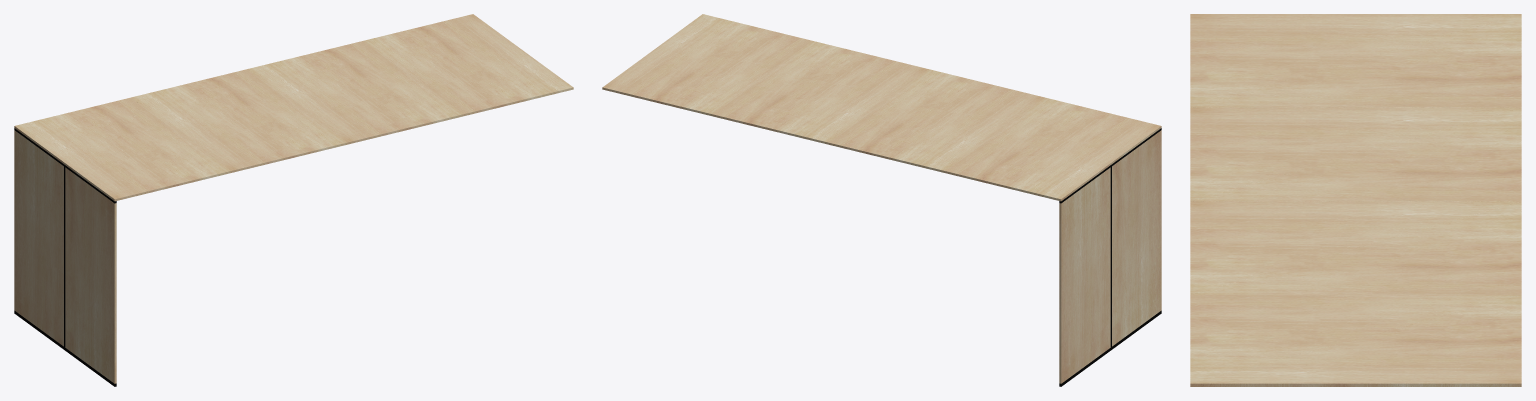
The model's file is rear-top-plywood.glb.
3 views of the same model, side by side, from view 1: azimuth 30°, elevation 25°; view 2: azimuth 150°, elevation 25°; view 3: azimuth 270°, elevation 25° (orthographic). The views are drawn at different scales.
Visible parts, largest first — view 1: Obj_20FT_Blank_Plywood_reartop_5, 20FT_Blank_Plywood_reartop, Obj_20FT_Blank_Plywood_reartop_4, Obj_20FT_Blank_Plywood_reartop_1, Obj_20FT_Blank_Plywood_reartop_3, Obj_20FT_Blank_Plywood_reartop, Obj_20FT_Blank_Plywood_reartop_2; view 2: Obj_20FT_Blank_Plywood_reartop_5, 20FT_Blank_Plywood_reartop, Obj_20FT_Blank_Plywood_reartop_4, Obj_20FT_Blank_Plywood_reartop_1, Obj_20FT_Blank_Plywood_reartop, Obj_20FT_Blank_Plywood_reartop_3, Obj_20FT_Blank_Plywood_reartop_2; view 3: Obj_20FT_Blank_Plywood_reartop_4, 20FT_Blank_Plywood_reartop, Obj_20FT_Blank_Plywood_reartop_5, Obj_20FT_Blank_Plywood_reartop_1.
Boxes of the visible parts, left/top/right/bottom form: Obj_20FT_Blank_Plywood_reartop_5: left=14, top=97, right=230, bottom=201; 20FT_Blank_Plywood_reartop: left=247, top=41, right=463, bottom=144; Obj_20FT_Blank_Plywood_reartop_4: left=131, top=69, right=347, bottom=172; Obj_20FT_Blank_Plywood_reartop_1: left=363, top=14, right=573, bottom=115; Obj_20FT_Blank_Plywood_reartop_3: left=65, top=167, right=116, bottom=383; Obj_20FT_Blank_Plywood_reartop: left=14, top=130, right=63, bottom=346; Obj_20FT_Blank_Plywood_reartop_2: left=14, top=128, right=116, bottom=386; Obj_20FT_Blank_Plywood_reartop_5: left=945, top=97, right=1161, bottom=201; 20FT_Blank_Plywood_reartop: left=712, top=41, right=928, bottom=144; Obj_20FT_Blank_Plywood_reartop_4: left=828, top=69, right=1044, bottom=172; Obj_20FT_Blank_Plywood_reartop_1: left=602, top=14, right=812, bottom=115; Obj_20FT_Blank_Plywood_reartop: left=1059, top=167, right=1110, bottom=383; Obj_20FT_Blank_Plywood_reartop_3: left=1112, top=130, right=1161, bottom=346; Obj_20FT_Blank_Plywood_reartop_2: left=1059, top=128, right=1161, bottom=386; Obj_20FT_Blank_Plywood_reartop_4: left=1190, top=107, right=1521, bottom=201; 20FT_Blank_Plywood_reartop: left=1190, top=201, right=1521, bottom=294; Obj_20FT_Blank_Plywood_reartop_5: left=1190, top=14, right=1521, bottom=107; Obj_20FT_Blank_Plywood_reartop_1: left=1190, top=295, right=1521, bottom=386.
Bounding box in the file's own units: 5.87 × 2.29 × 2.22.
2 materials, 1 textured.
